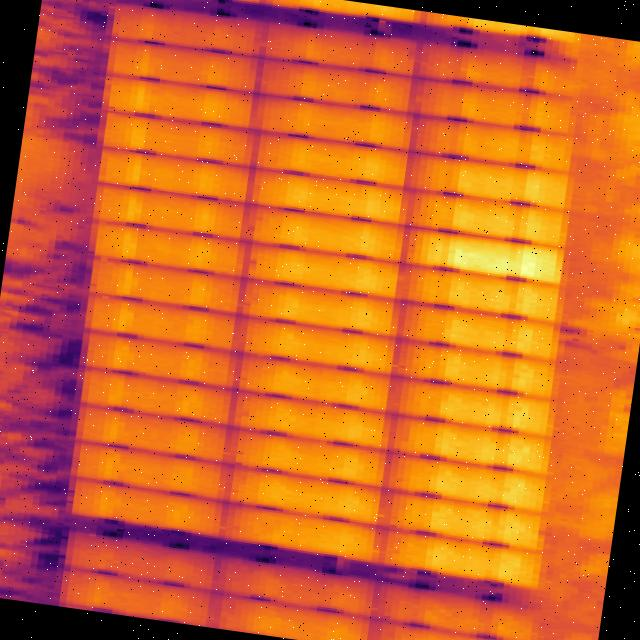Hotspot: (421, 232, 564, 286)
